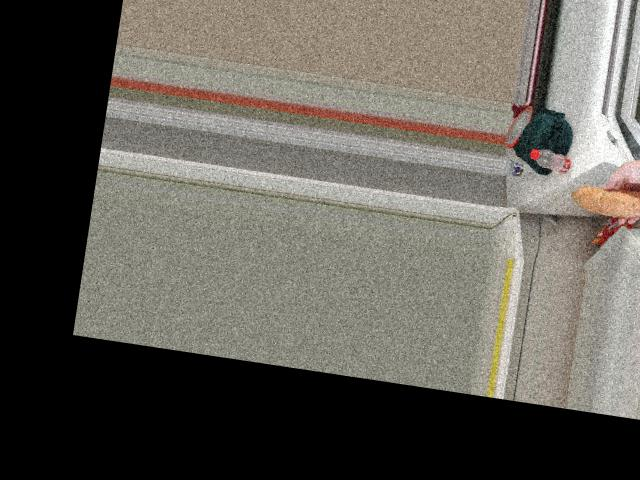sweet_potato: (582, 177, 640, 217)
